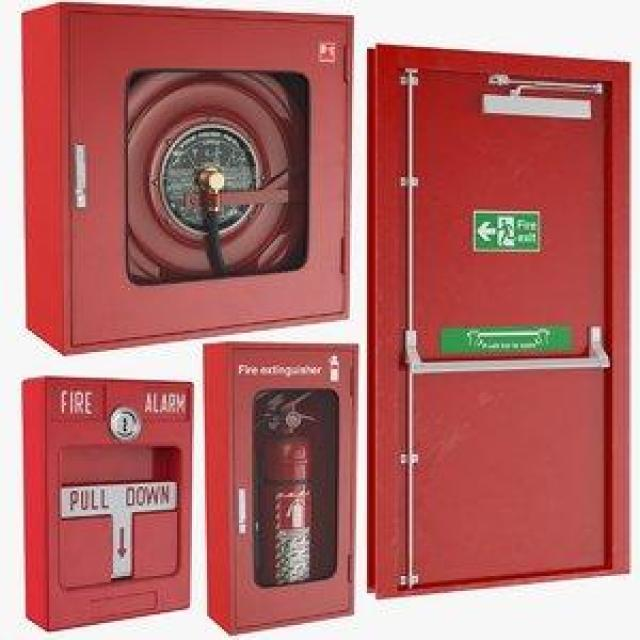fire_extinguisher: (234, 366, 332, 622)
